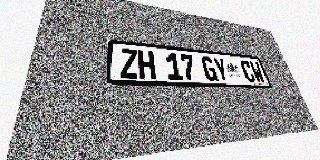1: (165, 53, 183, 80)
7: (179, 54, 197, 81)
C: (239, 60, 257, 83)
G: (201, 56, 219, 81)
H: (138, 50, 156, 79)
W: (249, 61, 266, 83)
Y: (212, 57, 230, 82)
Z: (120, 48, 139, 79)
